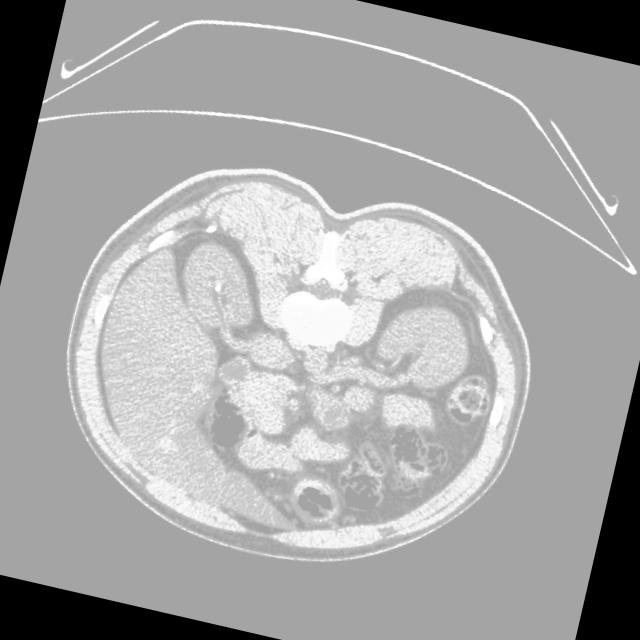STONE: (176, 314, 558, 594)
